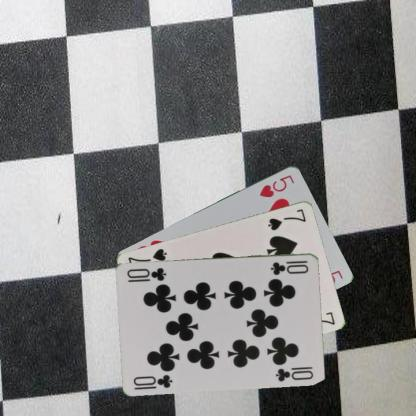10c: (131, 371, 174, 389), (268, 258, 310, 276)
5h: (256, 172, 296, 198)
7s: (266, 206, 308, 232)
